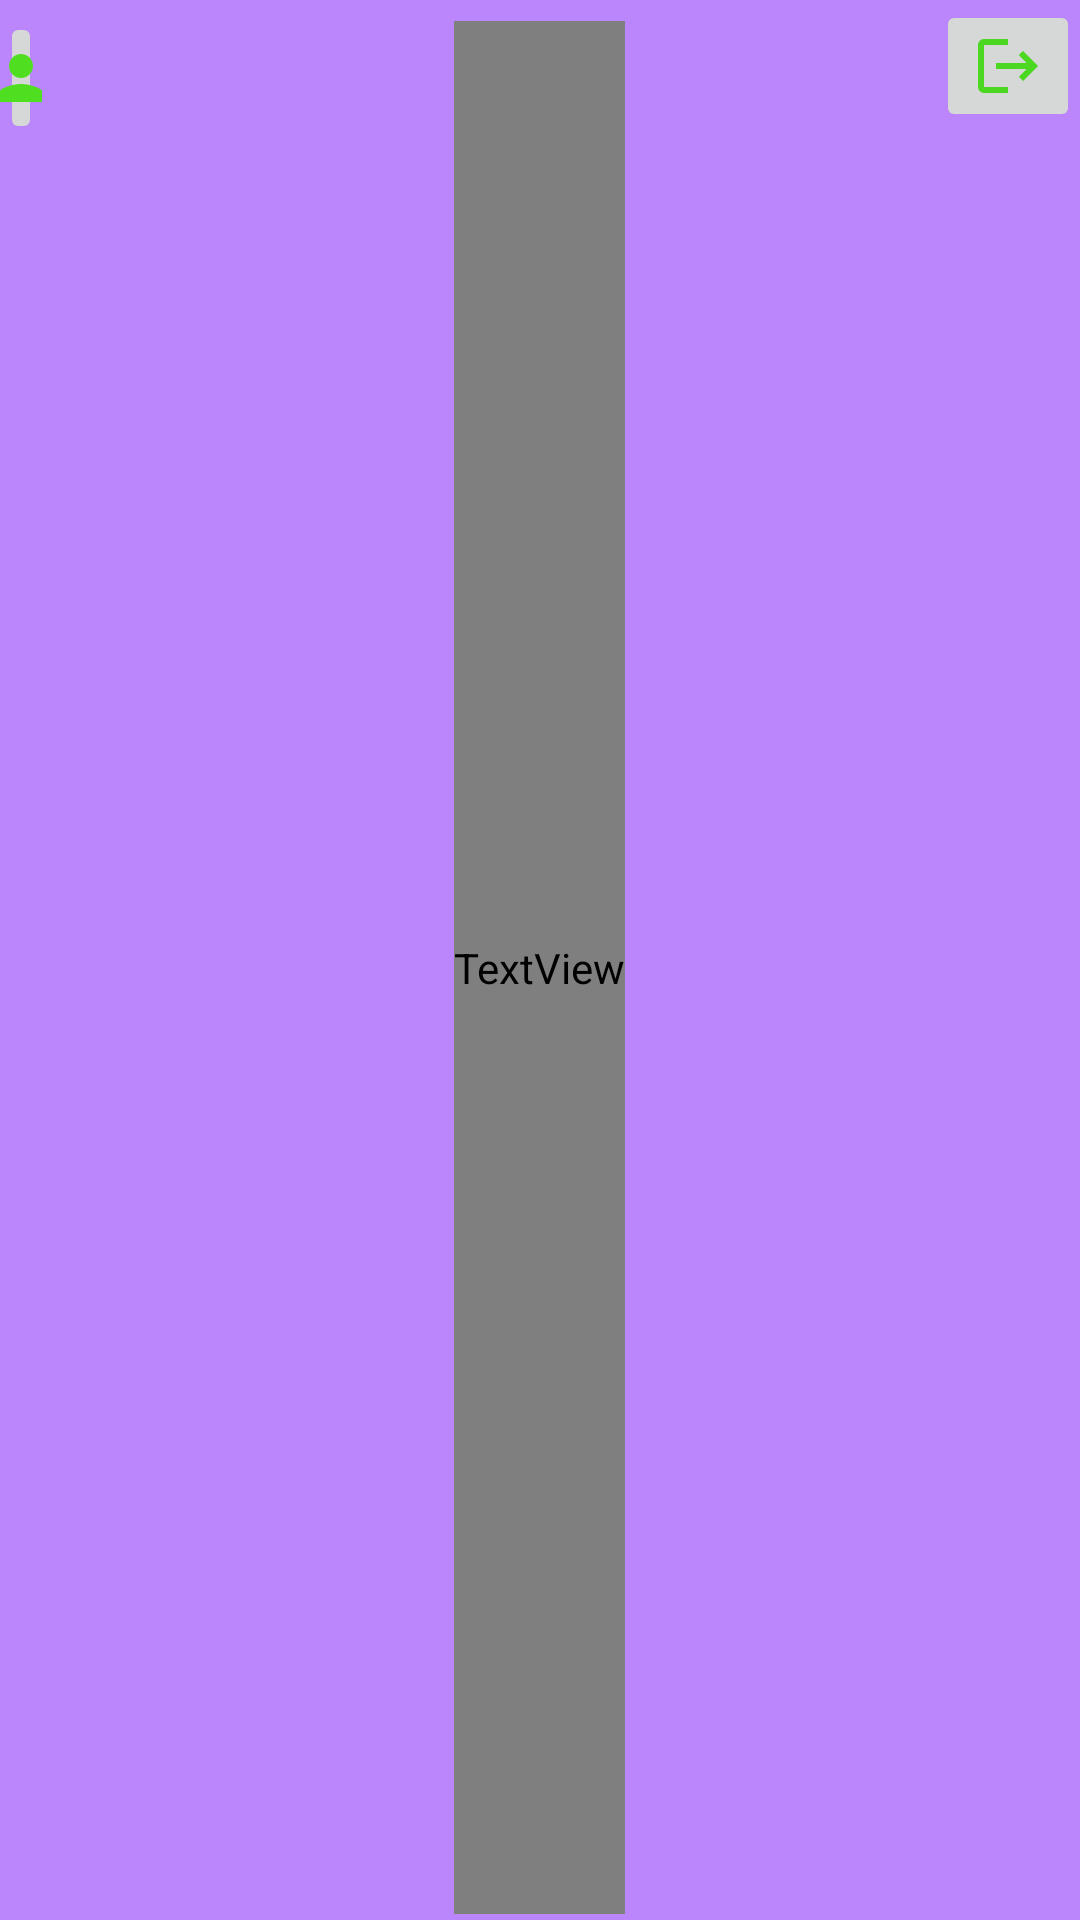

Icons on this 1080*1920 Android screen, each with the point to tap as (x=x, y=y):
person: (x=21, y=78)
